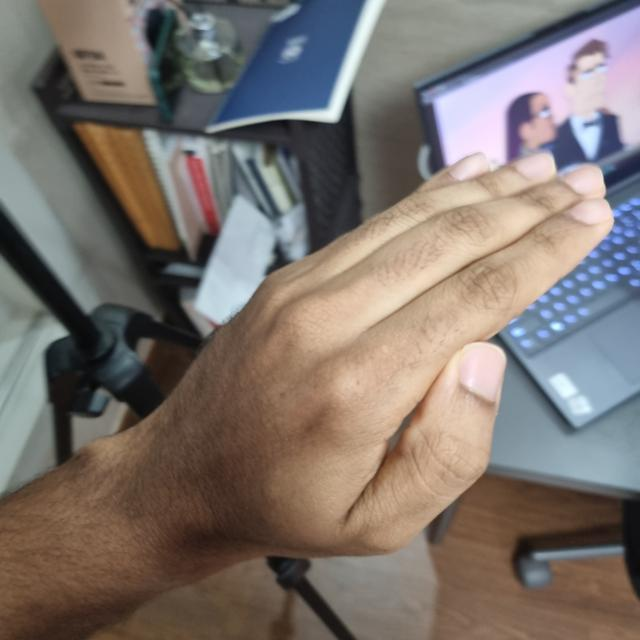Paper: (156, 146, 610, 561)
